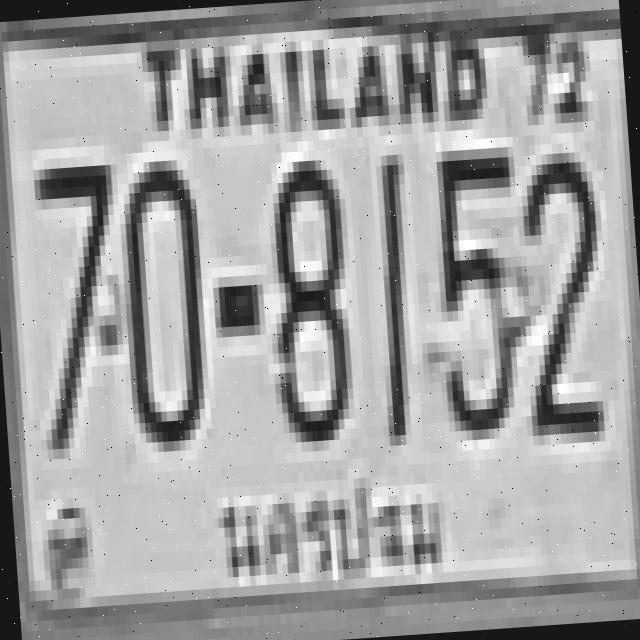0: (113, 148, 210, 444)
1: (369, 150, 417, 440), (366, 154, 414, 436)
2: (511, 146, 606, 431)
5: (424, 136, 526, 432)
7: (26, 154, 130, 450)
8: (262, 149, 354, 443)
NakhonPathom: (195, 463, 468, 611)
